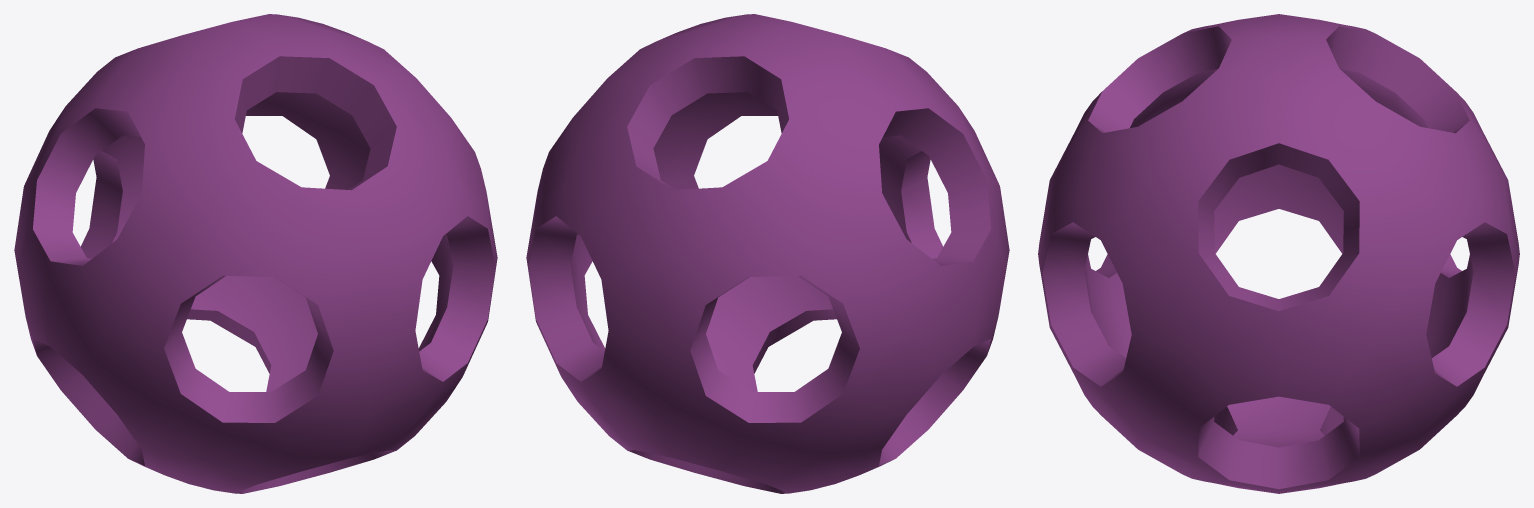
3 views of the same model, side by side, from view 1: azimuth 30°, elevation 25°; view 2: azimuth 150°, elevation 25°; view 3: azimuth 270°, elevation 25° (orthographic).
Parts seen in each view (by area): view 1: Cage_02; view 2: Cage_02; view 3: Cage_02.
Boxes of the visible parts, bbox=[...] form: Cage_02: bbox=[14, 14, 497, 493]; Cage_02: bbox=[526, 14, 1009, 493]; Cage_02: bbox=[1038, 14, 1519, 493].
Bounding box in the file's own units: 285 × 285 × 285.
1 material, 1 textured.
